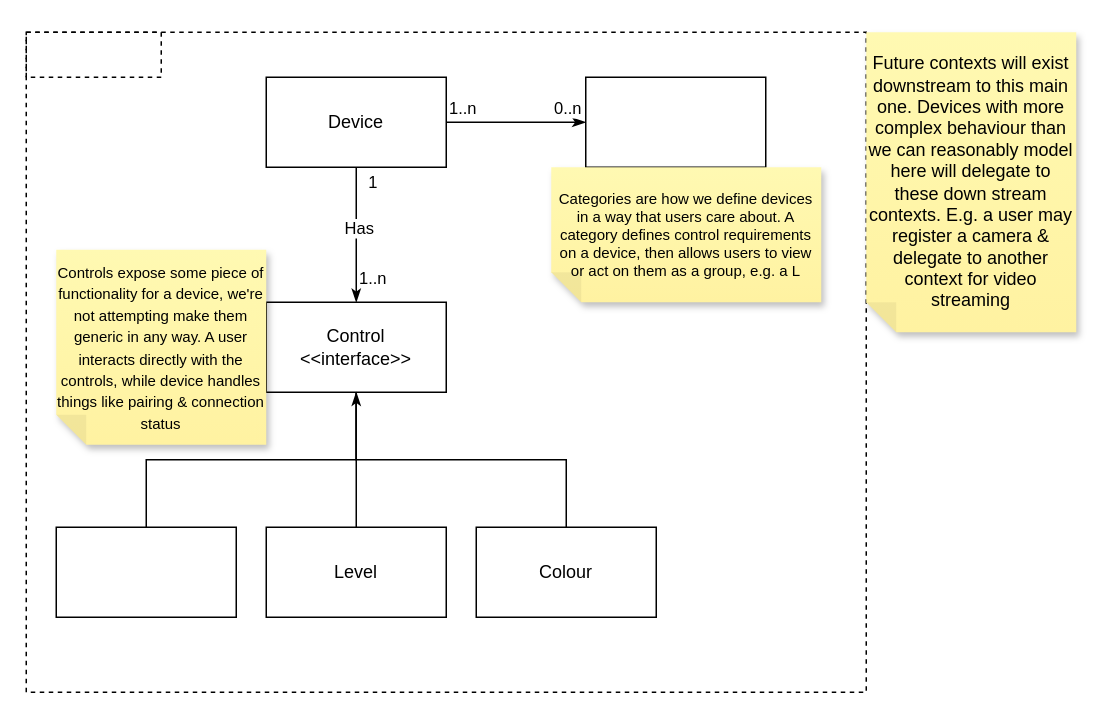
The diagram is 1112 pixels wide and 719 high, and some of its shapes have lost their labels. The shapes that lost their labels are listed below. From the top down, each one's centre as x and y in pixels, then its label:
At pixel 93 54: "Core Context".
At pixel 675 121: "Device Category".
At pixel 145 571: "Switch".
